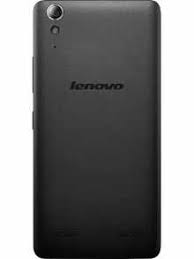lenovo: (30, 1, 162, 259)
